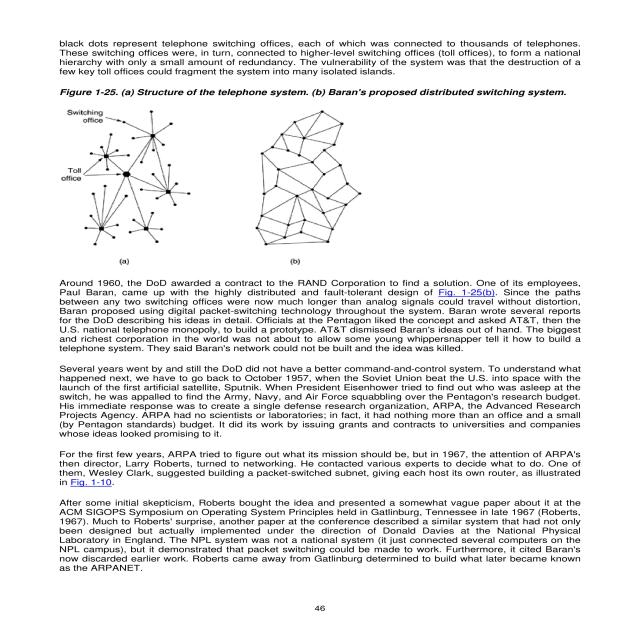diagram: (59, 82, 588, 264)
